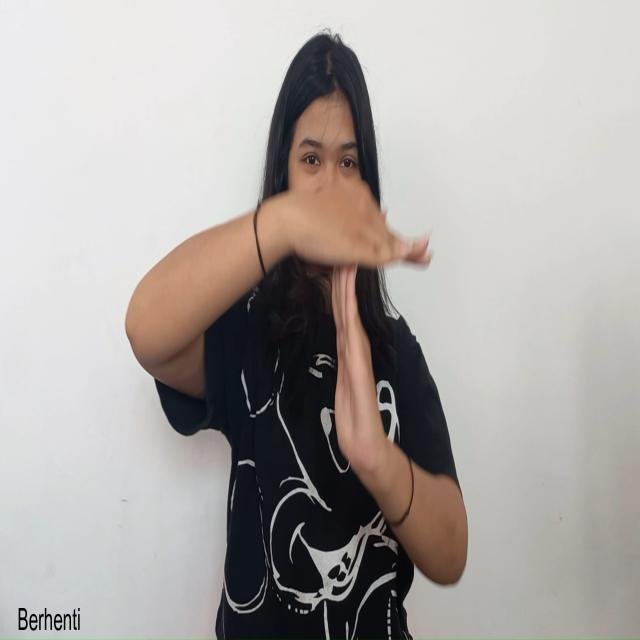Berhenti -BISINDO-: (267, 158, 433, 496)
